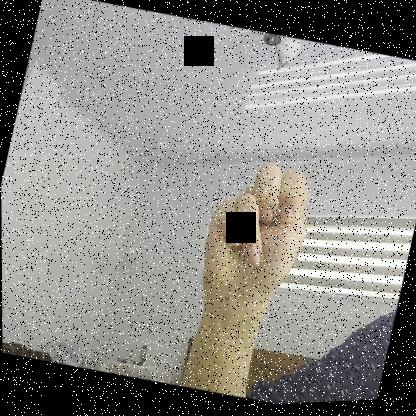N: (187, 150, 320, 324)
